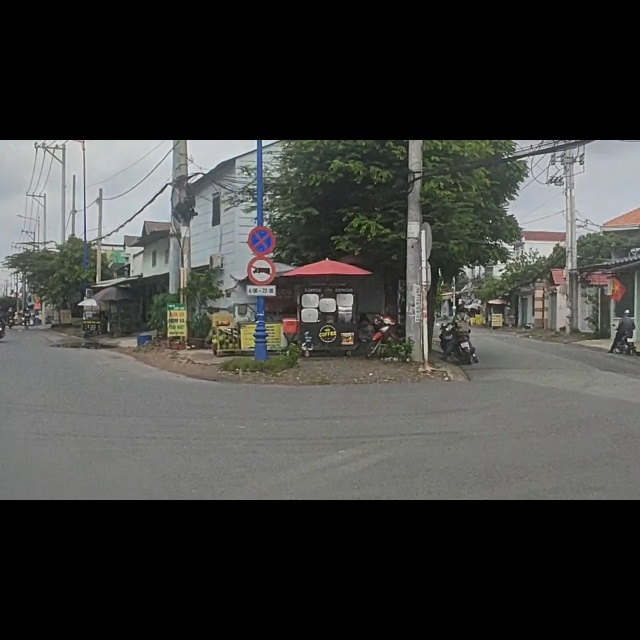bien_cam: (247, 206, 276, 258), (249, 153, 276, 204)
